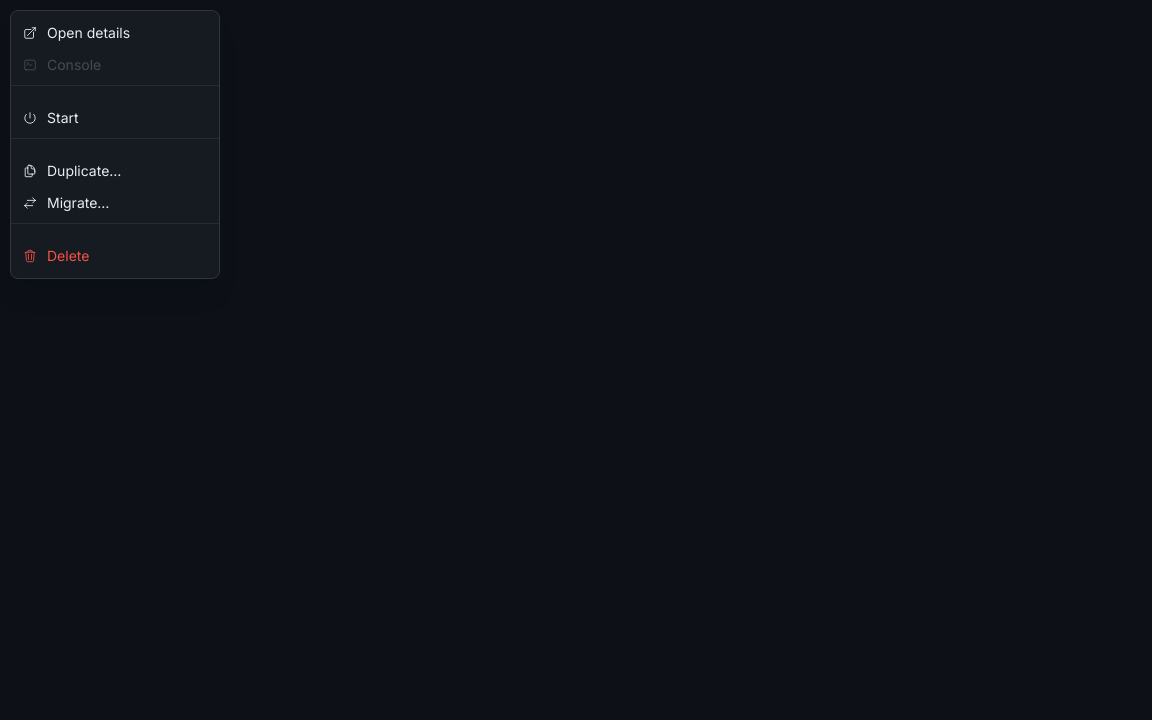
Scenario: ResourceContextMenu dialogs (StrictMode=true) › Docker delete confirm opens its dialog
Click the menu item "Delete".
click(115, 256)  # box [11, 240, 219, 272]
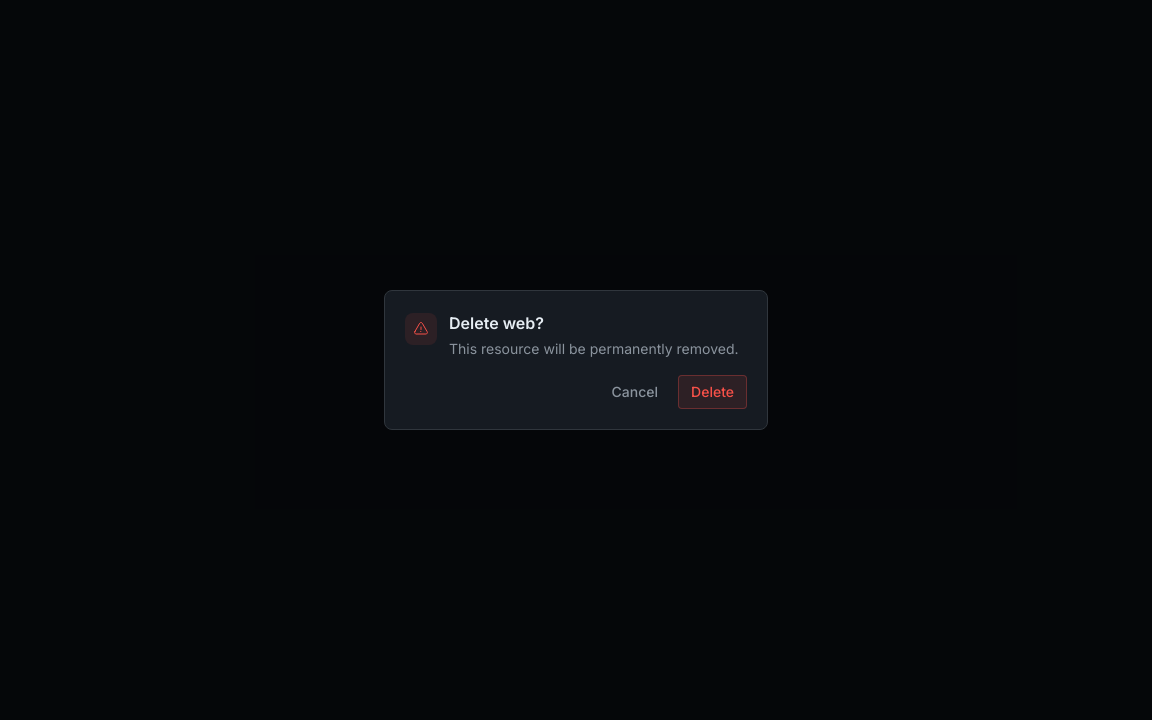
Expected: the text "This resource will be permanently removed." is shown, [449, 339, 747, 359]
